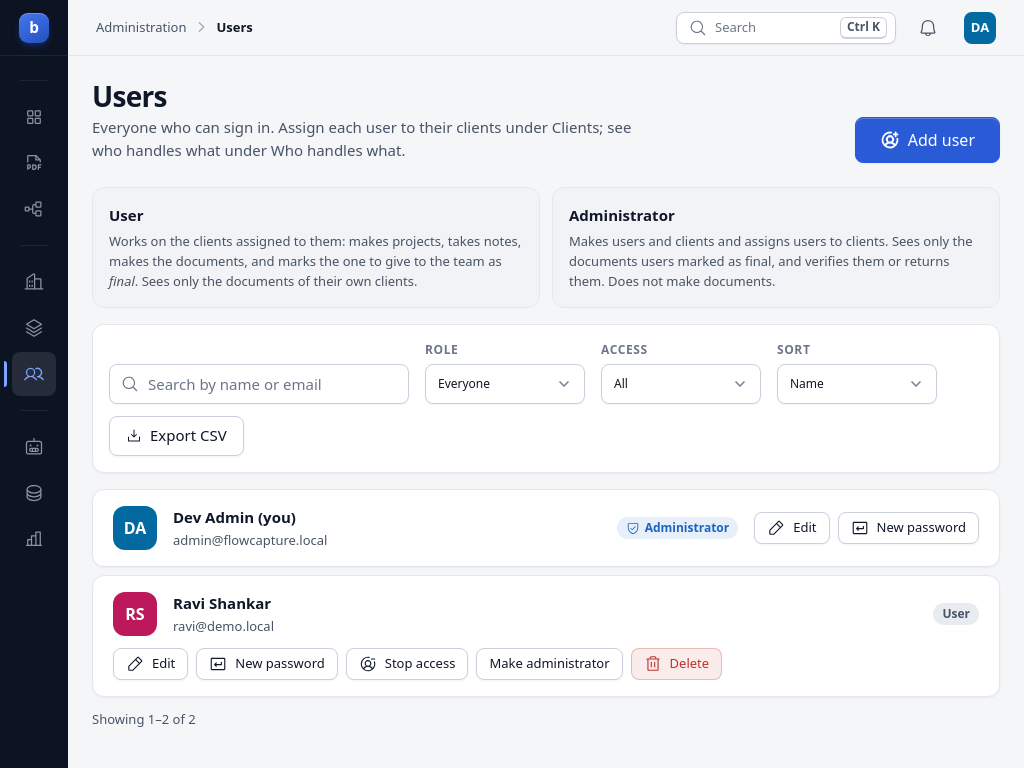
Test: deleting a user (administrator only) › shows the reason when the server refuses (for example the last administrator)
The image size is (1024, 768).
Click the button with aria-label "Delete Ravi Shankar" at (676, 664), box [631,648,722,680]
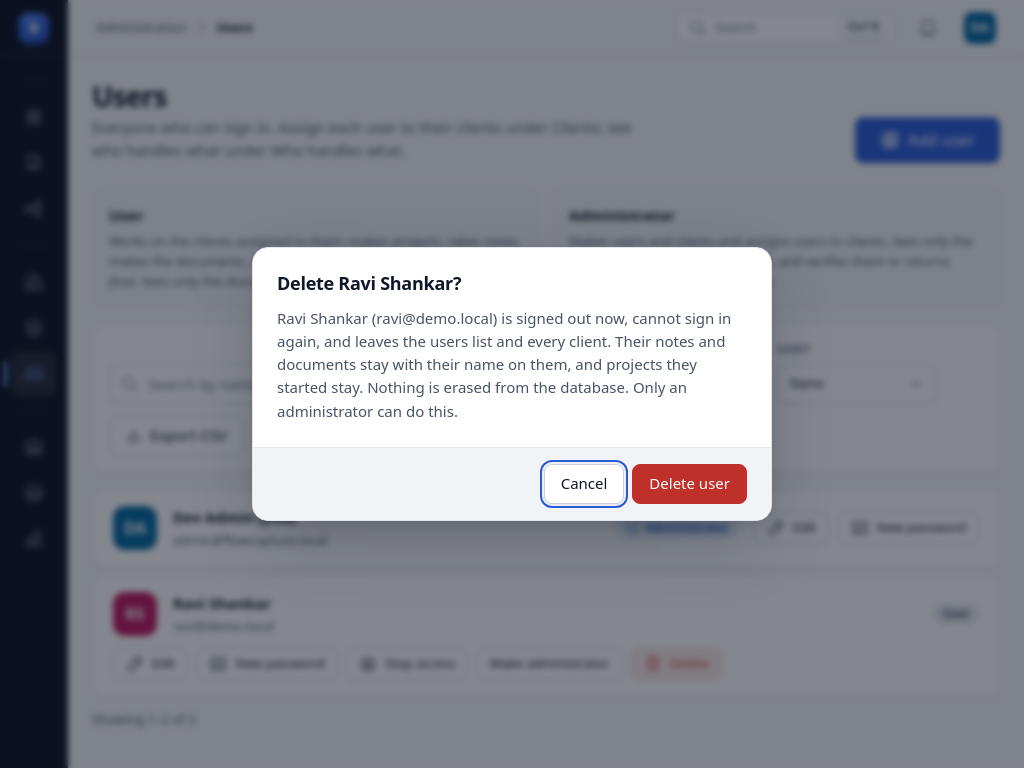
Click the button "Delete user" at (690, 484), box [632,464,747,504]
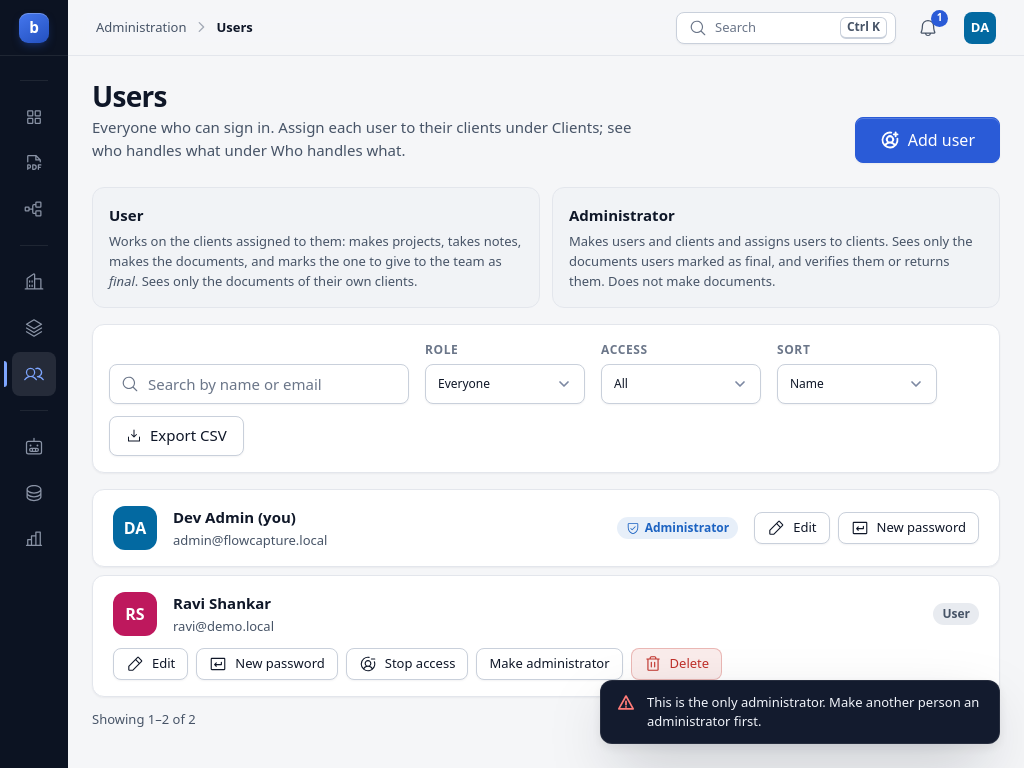
expect the text "This is the only administrator" is shown: met, box [647,693,979,730]
